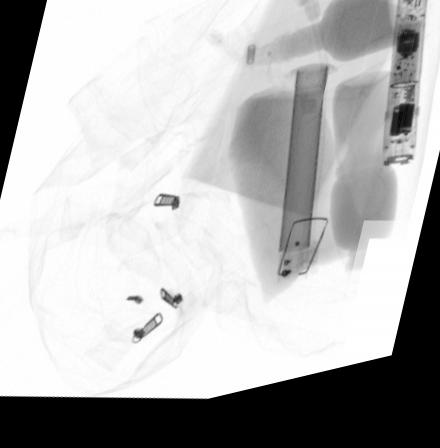Baton: (379, 0, 429, 186)
